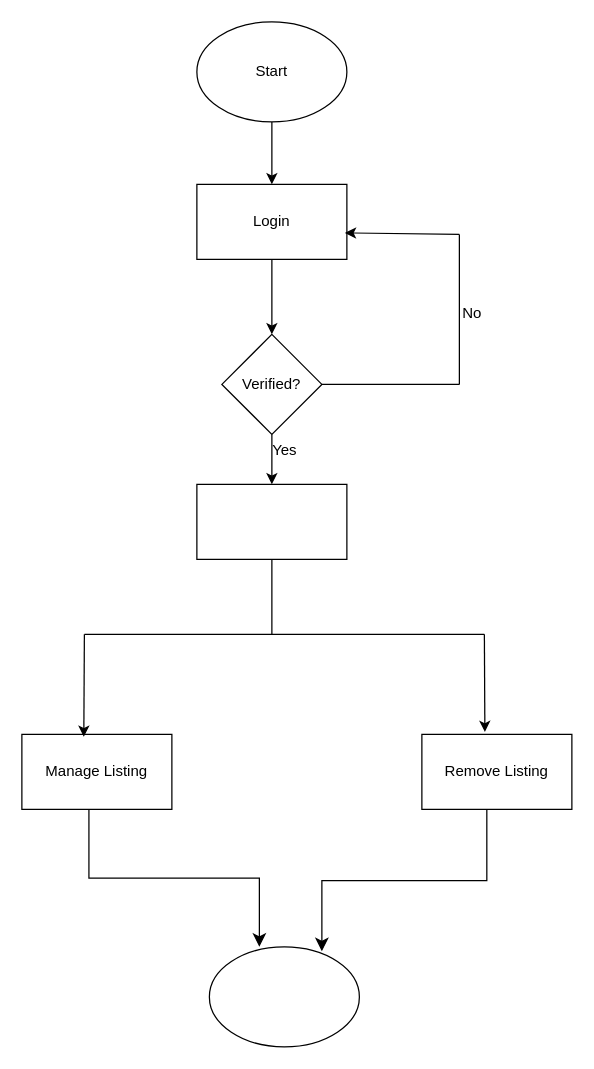
The diagram is 594 pixels wide and 1069 high, and some of its shapes have lost their labels. The centre of each missing label's shape, as x and y in pixels:
Admin Panel: (271,521)
Stop: (283,996)
